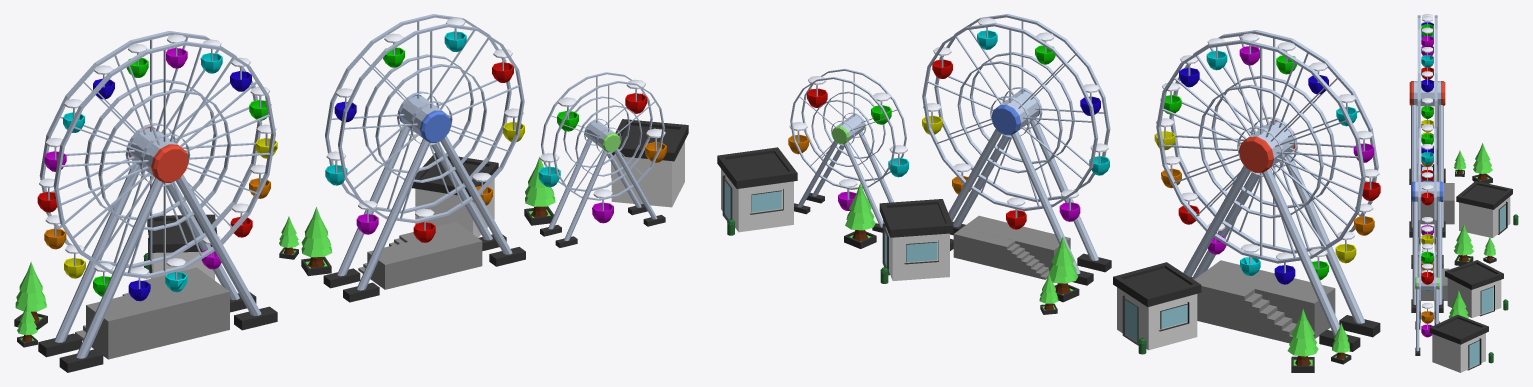
The model's file is ferris wheel.fbx.
3 views of the same model, side by side, from view 1: azimuth 30°, elevation 25°; view 2: azimuth 150°, elevation 25°; view 3: azimuth 270°, elevation 25° (orthographic). The views are drawn at different scales.
Visible parts, largest first — view 1: ferris_t3, ferris_t2, wheel_t3, wheel_t2, ferris_t1, wheel_t1, zoo_t1.001; view 2: ferris_t3, ferris_t2, wheel_t3, ferris_t1, wheel_t2, wheel_t1, zoo_t1.001; view 3: ferris_t3, ferris_t2, ferris_t1, wheel_t3, wheel_t2, wheel_t1, zoo_t1.001, cab_t1.002, cab_t2.002, cab_t3.017, cab_t1.003, cab_t2.001 (+9 smaller).
Part boxes in pixels (x1,y1,x2,y2): ferris_t3: (14,127,277,372); ferris_t2: (279,95,525,302); wheel_t3: (39,31,275,278); wheel_t2: (325,14,524,223); ferris_t1: (524,119,688,247); wheel_t1: (541,72,664,200); zoo_t1.001: (17,303,37,347); ferris_t3: (1113,120,1380,372); ferris_t2: (879,90,1111,314); wheel_t3: (1156,30,1378,263); ferris_t1: (717,114,893,248); wheel_t2: (922,14,1110,211); wheel_t1: (790,68,906,189); zoo_t1.001: (1331,323,1351,364); ferris_t3: (1409,81,1518,237); ferris_t2: (1411,181,1508,317); ferris_t1: (1415,277,1493,372); wheel_t3: (1417,15,1437,171); wheel_t2: (1418,126,1436,257); wheel_t1: (1419,244,1435,322); zoo_t1.001: (1454,150,1465,176); cab_t1.002: (1421,263,1433,284); cab_t2.002: (1421,184,1433,205); cab_t3.017: (1421,71,1433,92); cab_t1.003: (1421,303,1433,323); cab_t2.001: (1421,144,1433,164).
Size of the model in its own units: 759 by 317 by 172.
